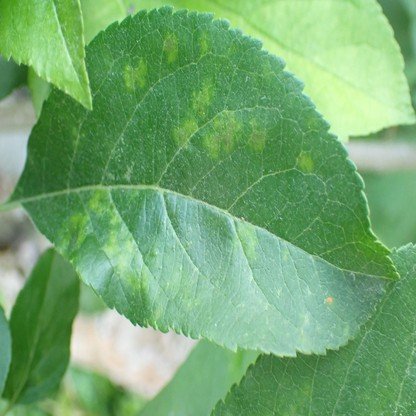rust: (326, 297, 332, 303)
scab: (206, 112, 243, 156), (168, 267, 197, 307), (61, 213, 88, 251), (233, 221, 258, 262), (193, 79, 215, 118), (117, 235, 134, 269), (90, 188, 110, 216), (174, 120, 197, 144), (121, 269, 147, 290), (102, 228, 120, 257), (125, 59, 145, 85), (163, 32, 179, 62), (249, 121, 265, 151), (297, 150, 314, 176), (199, 30, 207, 53), (110, 209, 121, 224), (72, 127, 80, 145)
